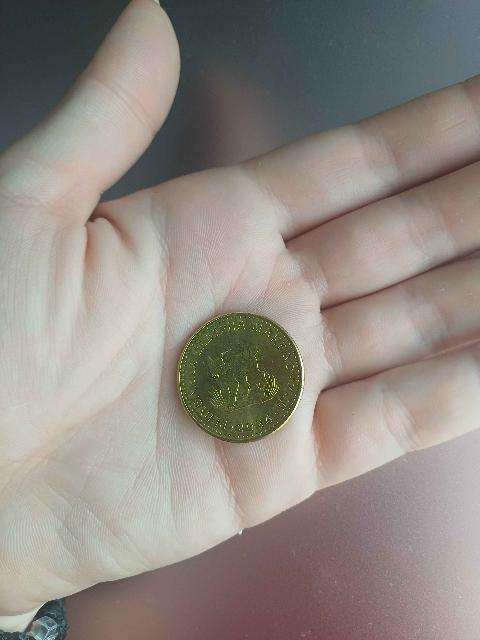5_coin: (178, 313, 303, 442)
